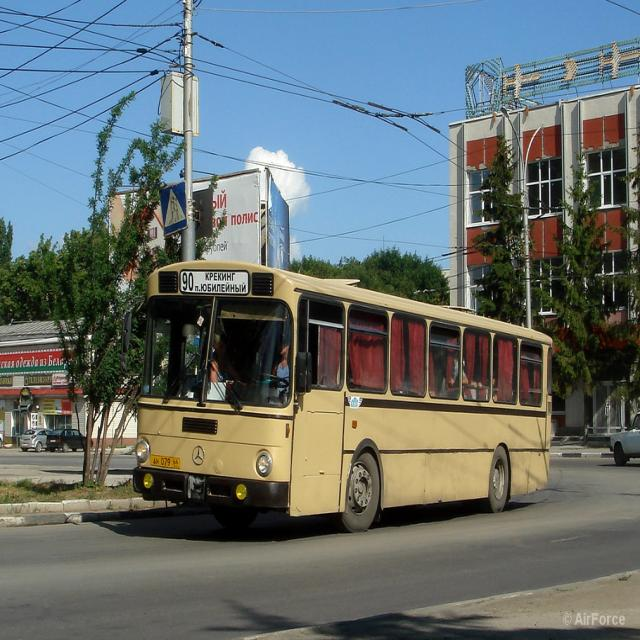number-of-bus: (174, 261, 200, 298)
